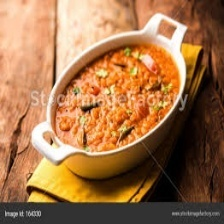sabzi: (50, 39, 184, 154)
